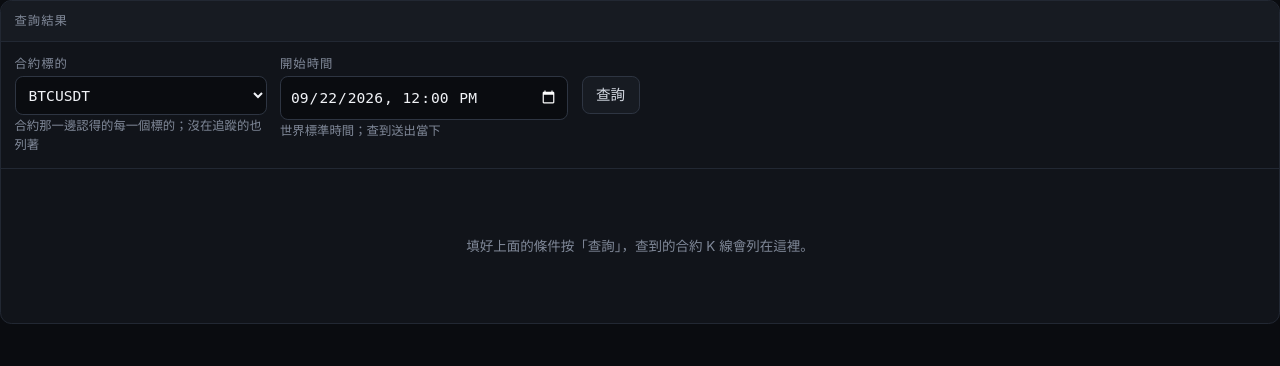
Test case: KCandleContractSearchPanel › 連不上後端時說連不上，並給一顆重試
The width and height of the screenshot is (1280, 366).
Submit the form, box x1=14 y1=56 x2=640 y2=152
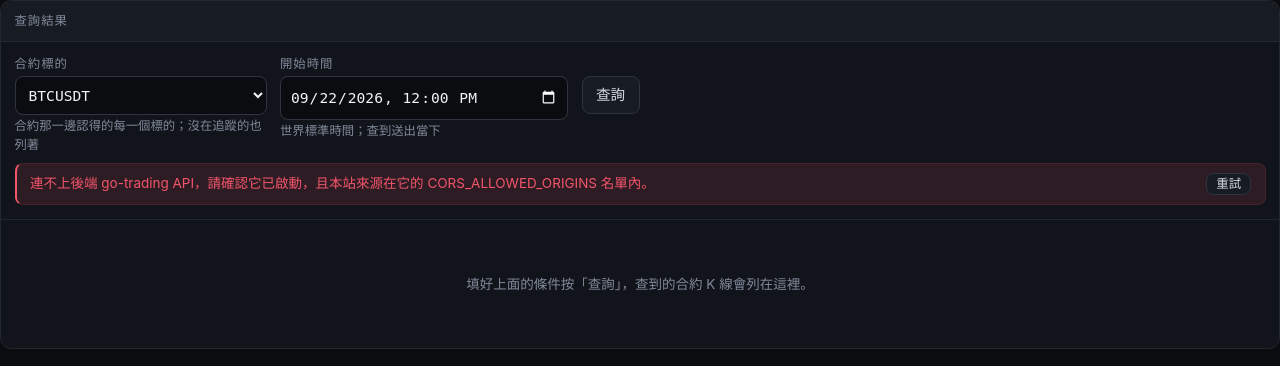
Expected: the message with test id "unreachable-alert" shows "連不上後端", x1=30 y1=175 x2=655 y2=191
Click the button "重試" at (1229, 184), box x1=1206 y1=173 x2=1251 y2=195
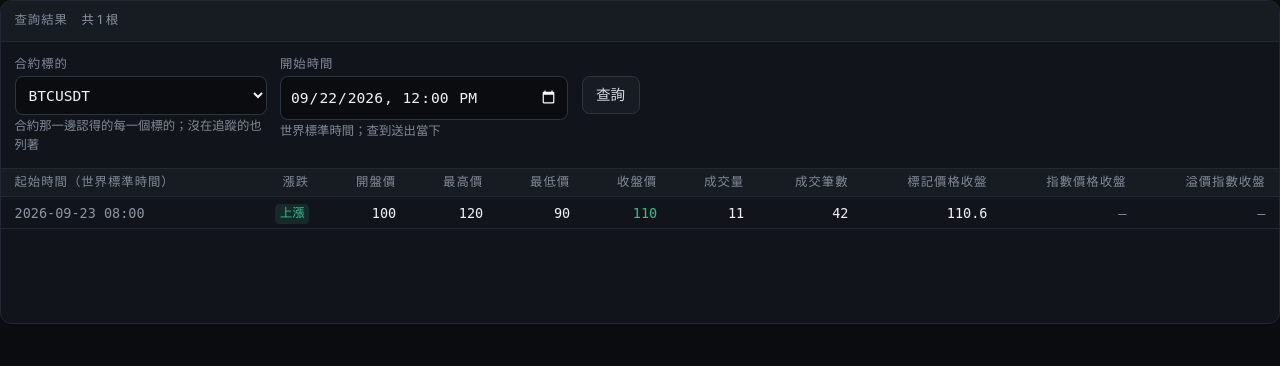
Expected: the number of rows with test id "k-candle-contract-row" is 1, x1=1 y1=197 x2=1279 y2=229
